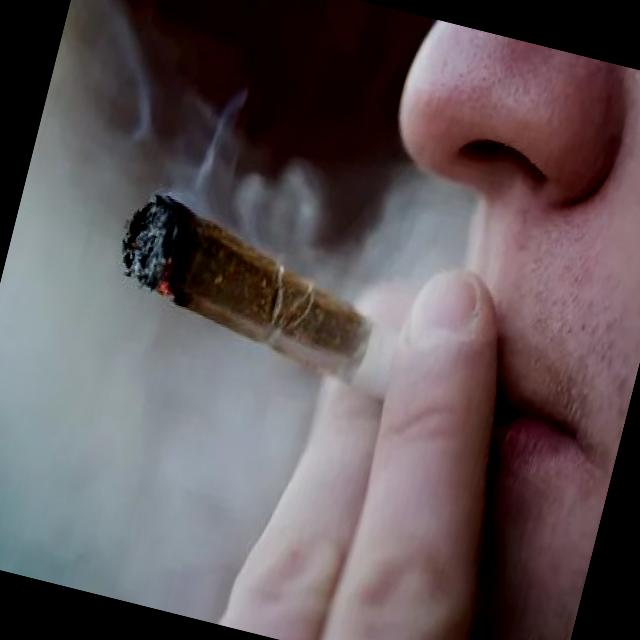smoke: (92, 174, 430, 428)
